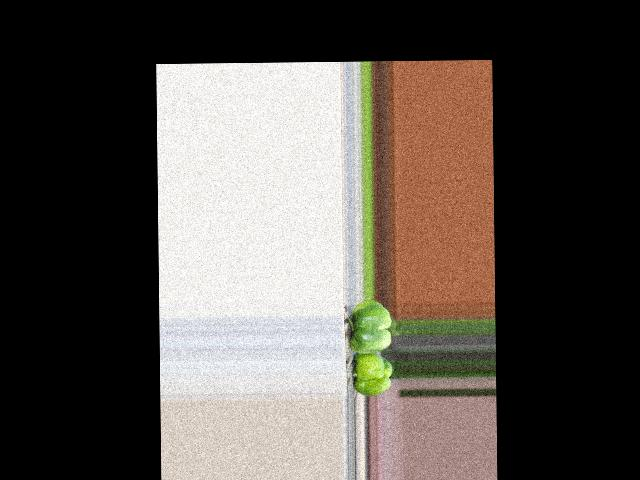bell_pepper: (349, 352, 394, 397)
